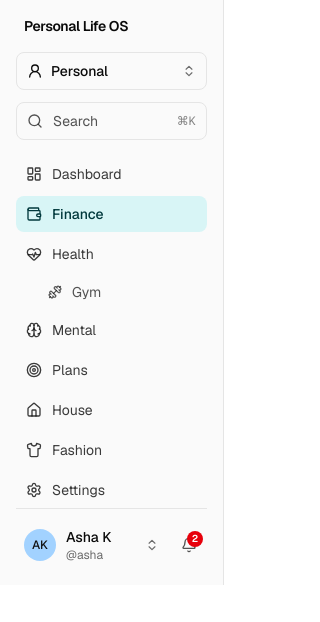
SidebarNav › shows a switching error as an alert
Click the button with aria-label "Switch space" at (112, 71), box top-left (16, 52), bottom-right (207, 90)
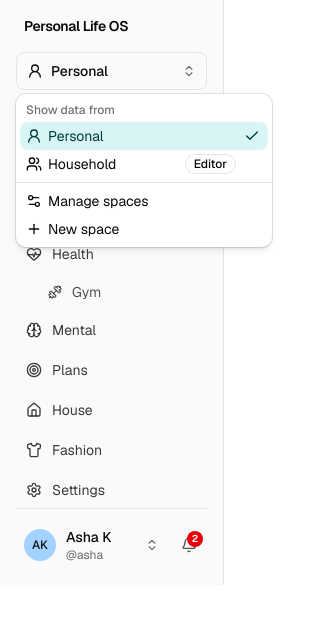
Click the menu item "Household Editor" at (82, 164), box top-left (26, 154), bottom-right (236, 174)
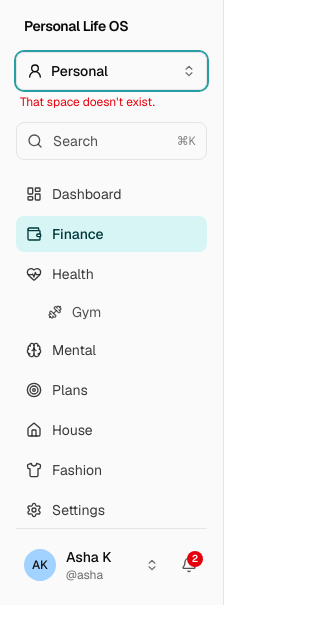
Result: the message reads "That space doesn't exist." at top-left (20, 94), bottom-right (155, 110)
